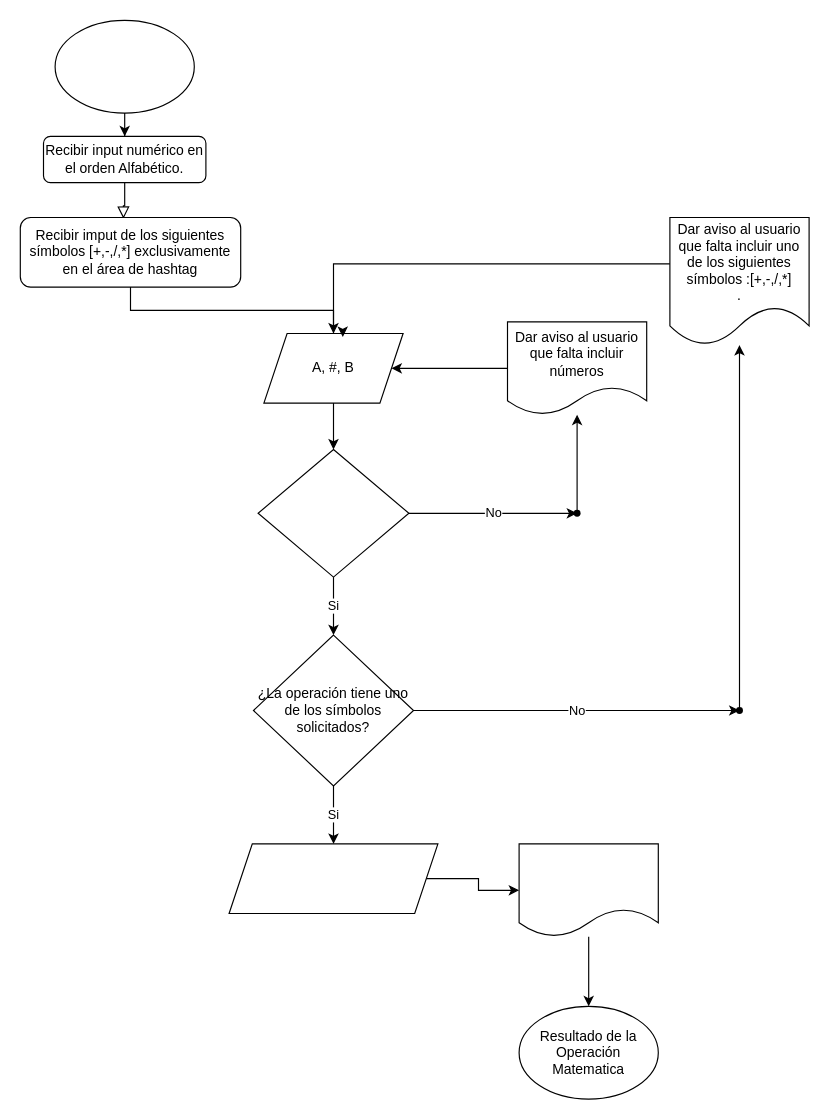
Some shapes in this 829 by 1119 pixel diagram are drawn without their labels. The centre of each missing label's shape, as x and y in pixels:
"(A, #, B) = Resultado" goes at (x=333, y=878).
"Diagrama de Operaciones." goes at (x=124, y=66).
"Imprimir resultado al Usuario" goes at (x=588, y=890).
"¿La operacion tiene numeros?" goes at (x=333, y=512).
